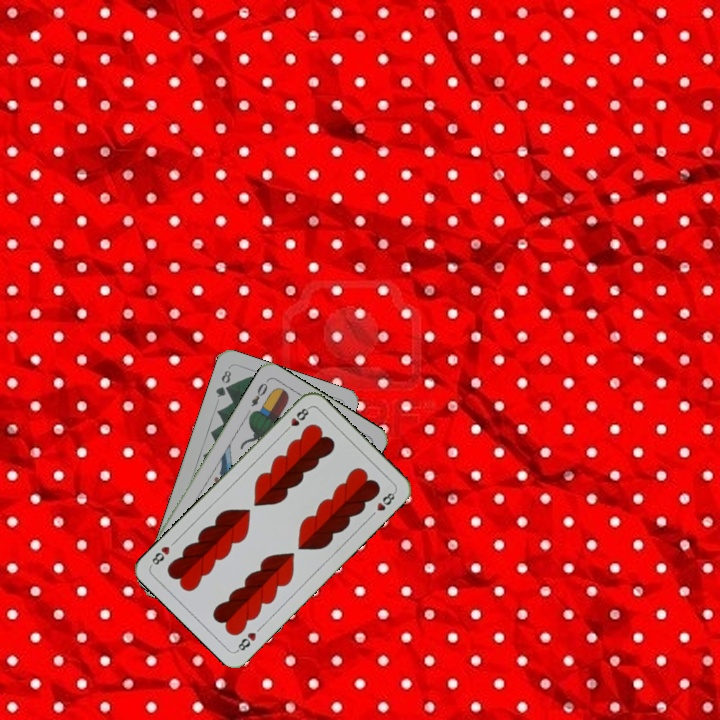EO: (247, 376, 271, 409)
G8: (212, 366, 234, 400)
H8: (280, 403, 312, 436), (233, 628, 259, 654)
